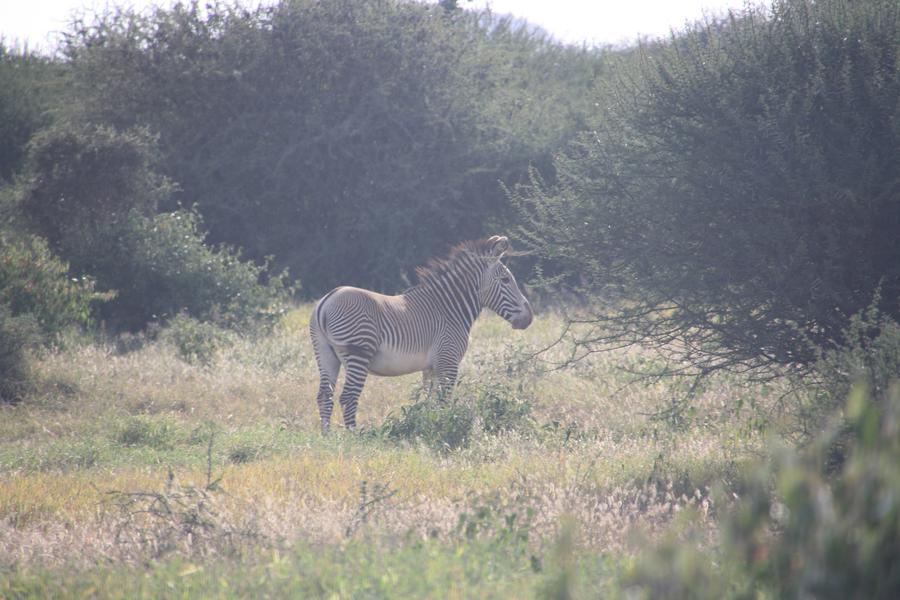zebra_grevys: (317, 286, 459, 366)
